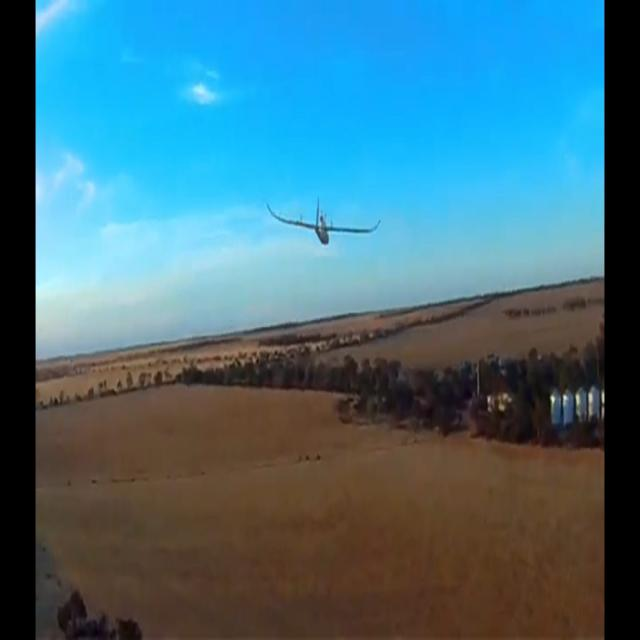iha: (297, 195, 349, 248)
